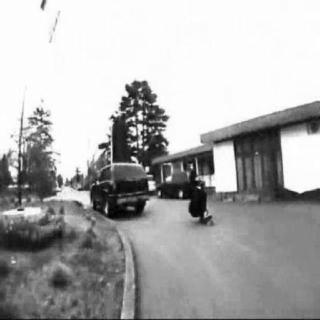other: (32, 2, 70, 54)
